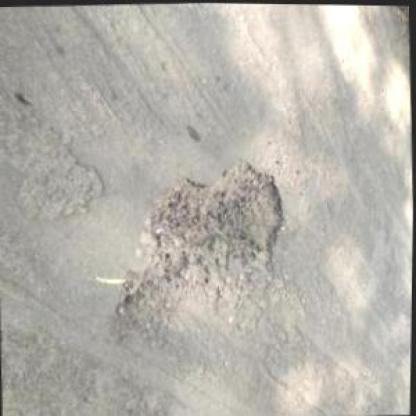pothole: (136, 154, 287, 281)
